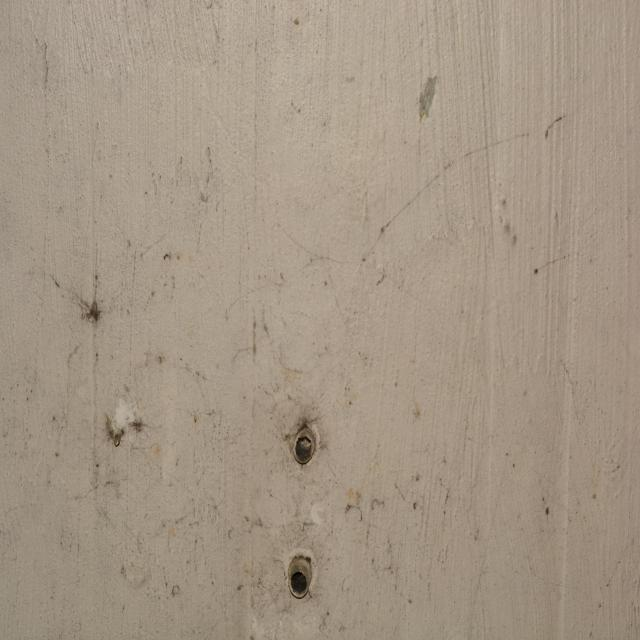corrosion: (287, 420, 324, 471), (283, 550, 318, 601)
